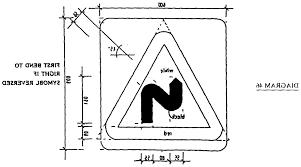double_bend_right: (102, 28, 225, 140)
